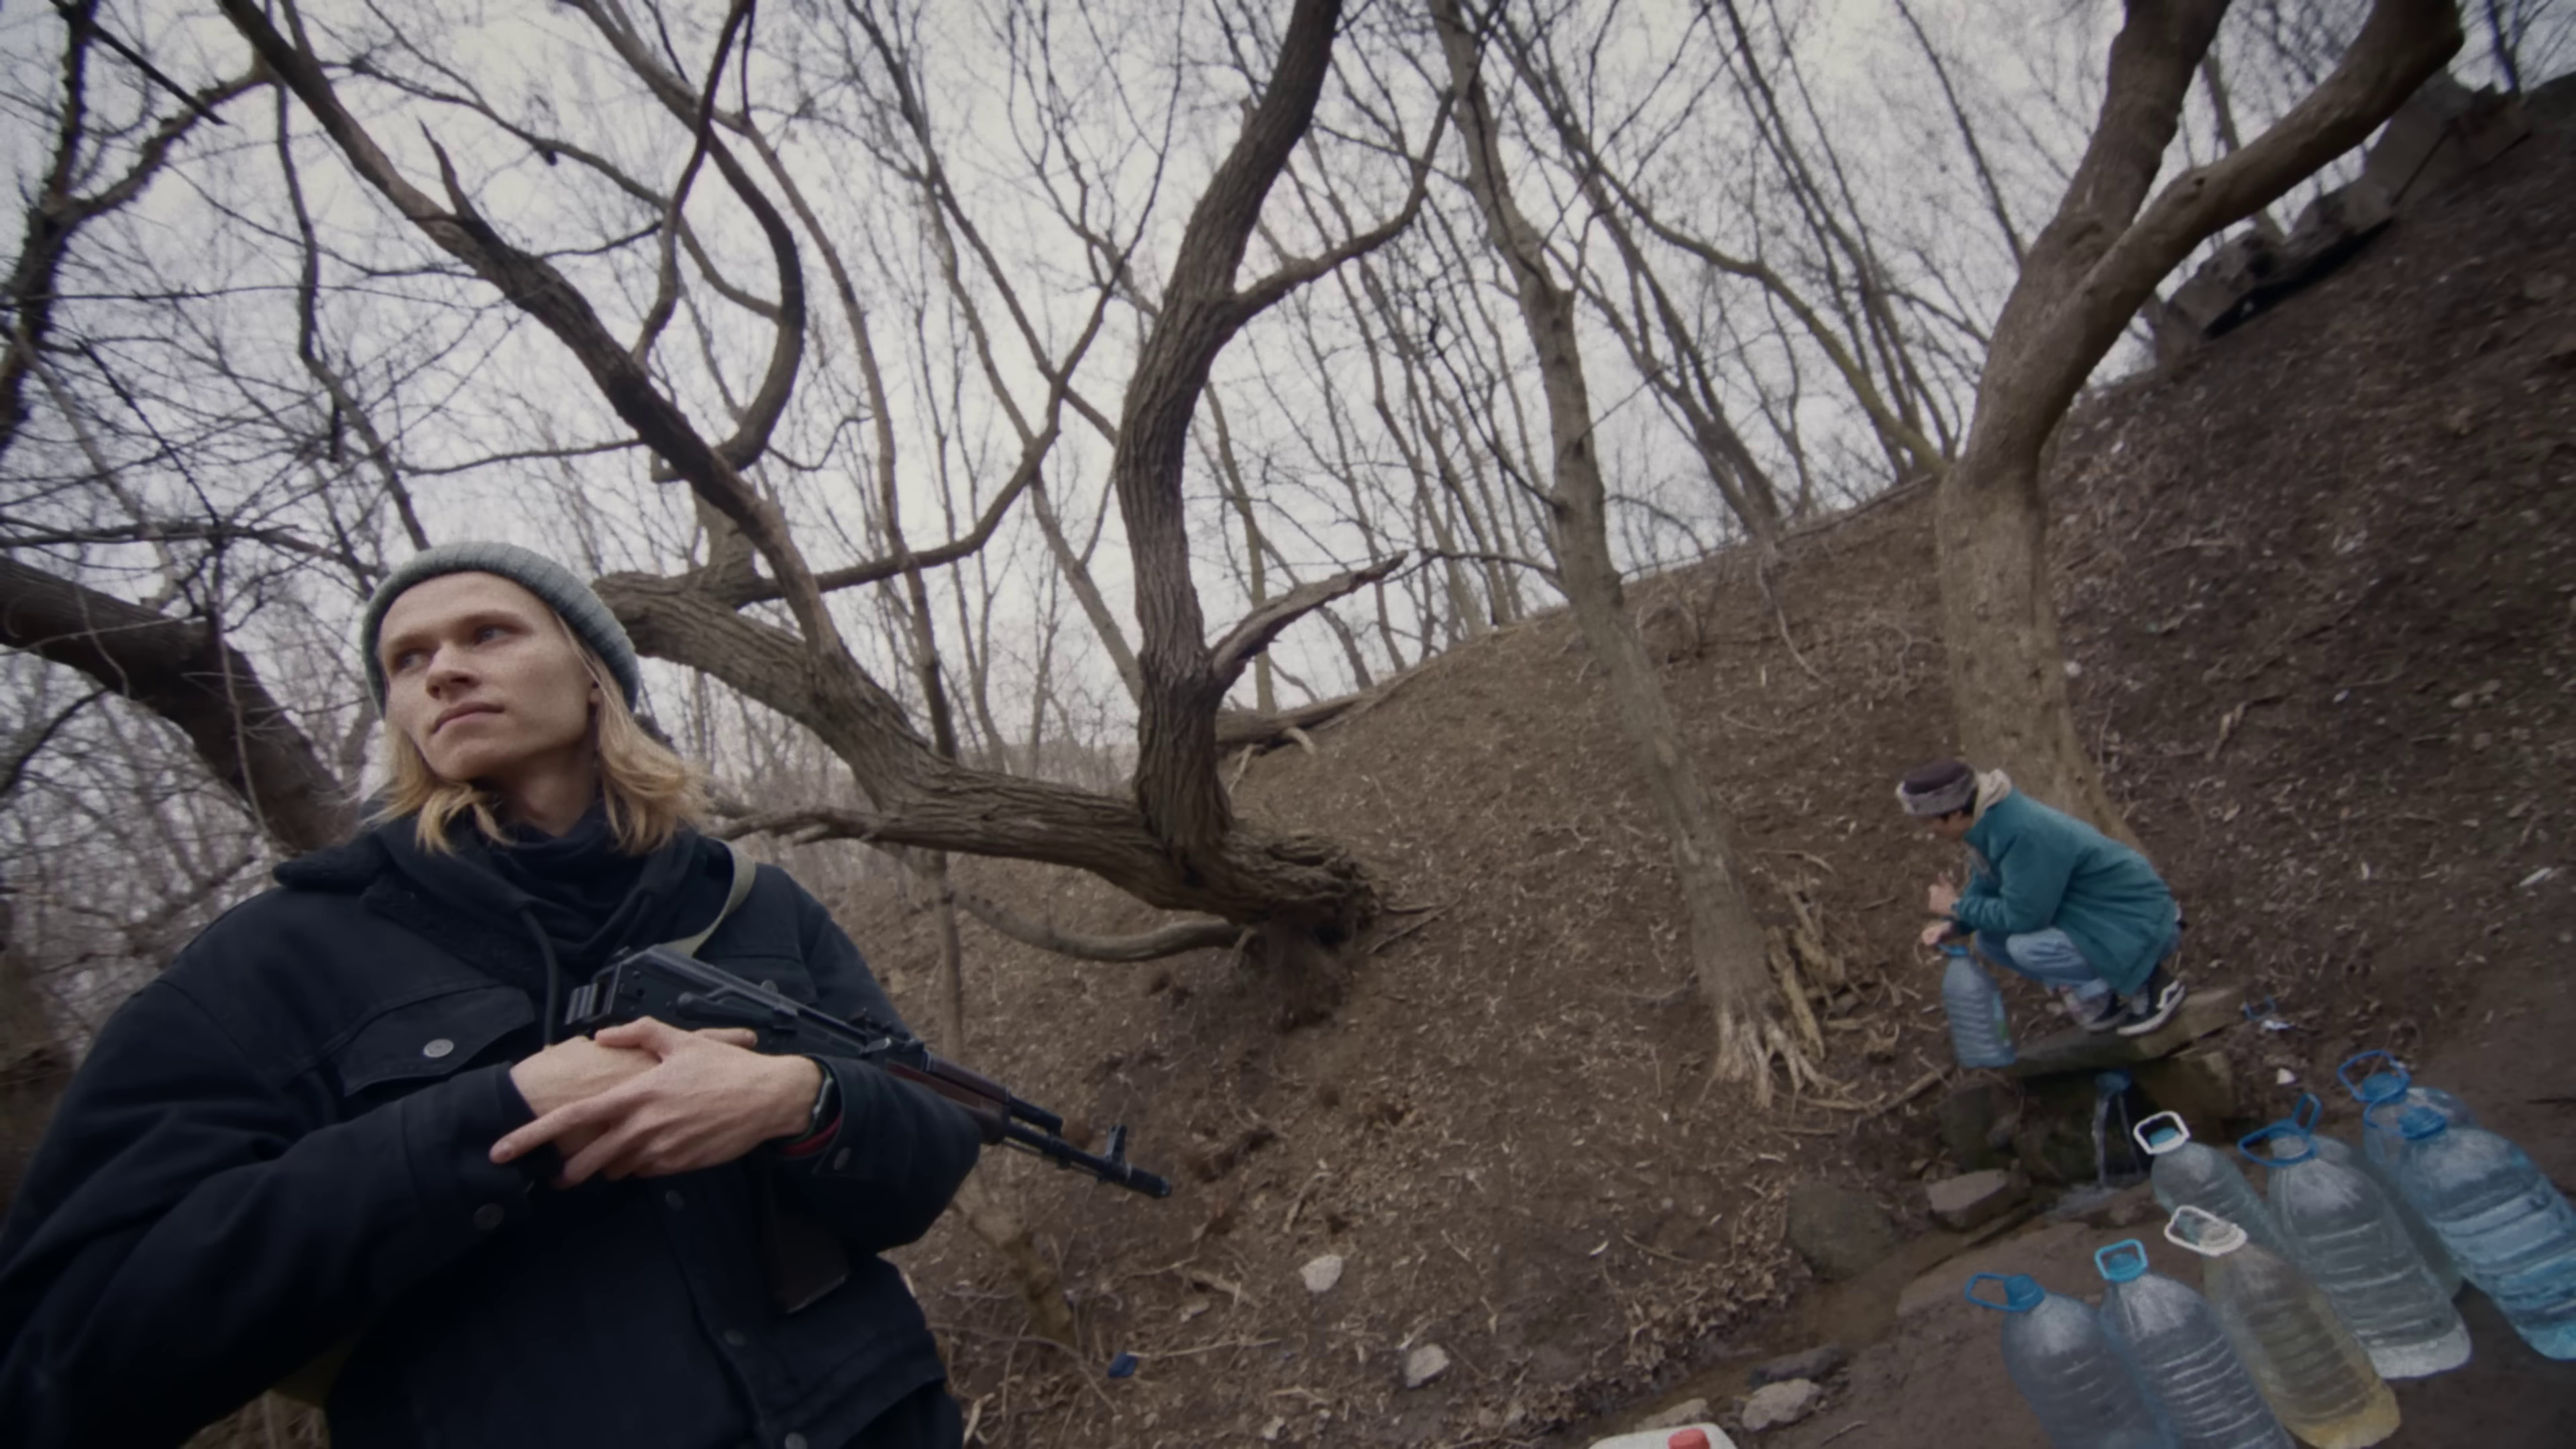gun: (541, 934, 1177, 1247)
p_w_gun: (0, 538, 1191, 1449)
p_wo_gun_carrying_another_object: (1890, 747, 2196, 1077)
